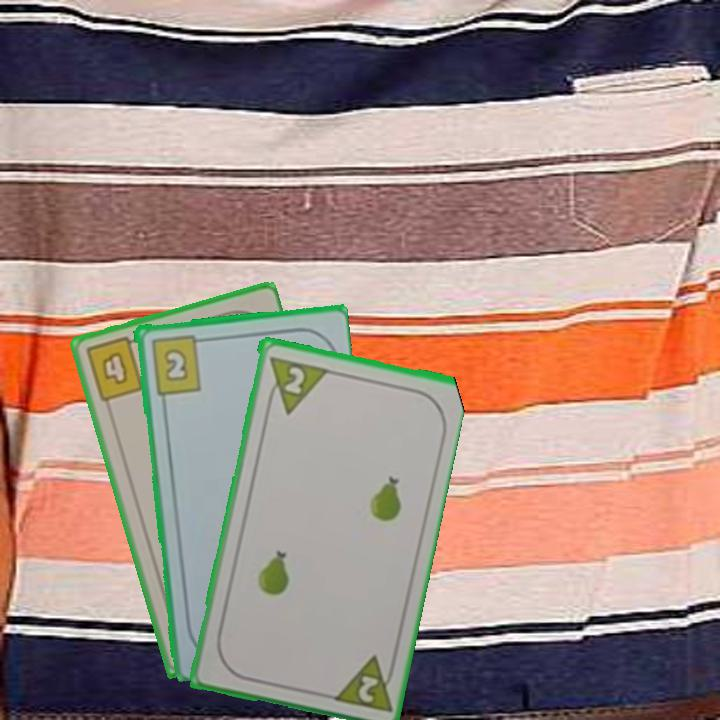2b: (147, 331, 208, 397)
2p: (327, 651, 399, 715), (280, 362, 307, 397)
4b: (81, 333, 146, 405)
